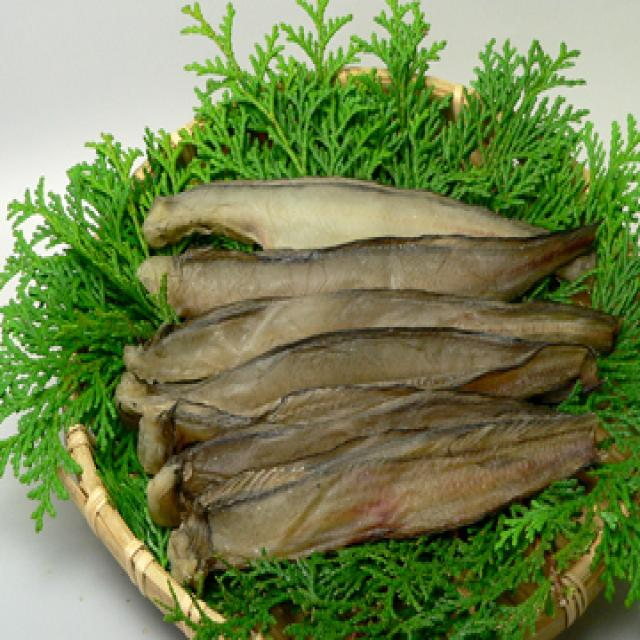熟制海鲜: (117, 175, 624, 586)
